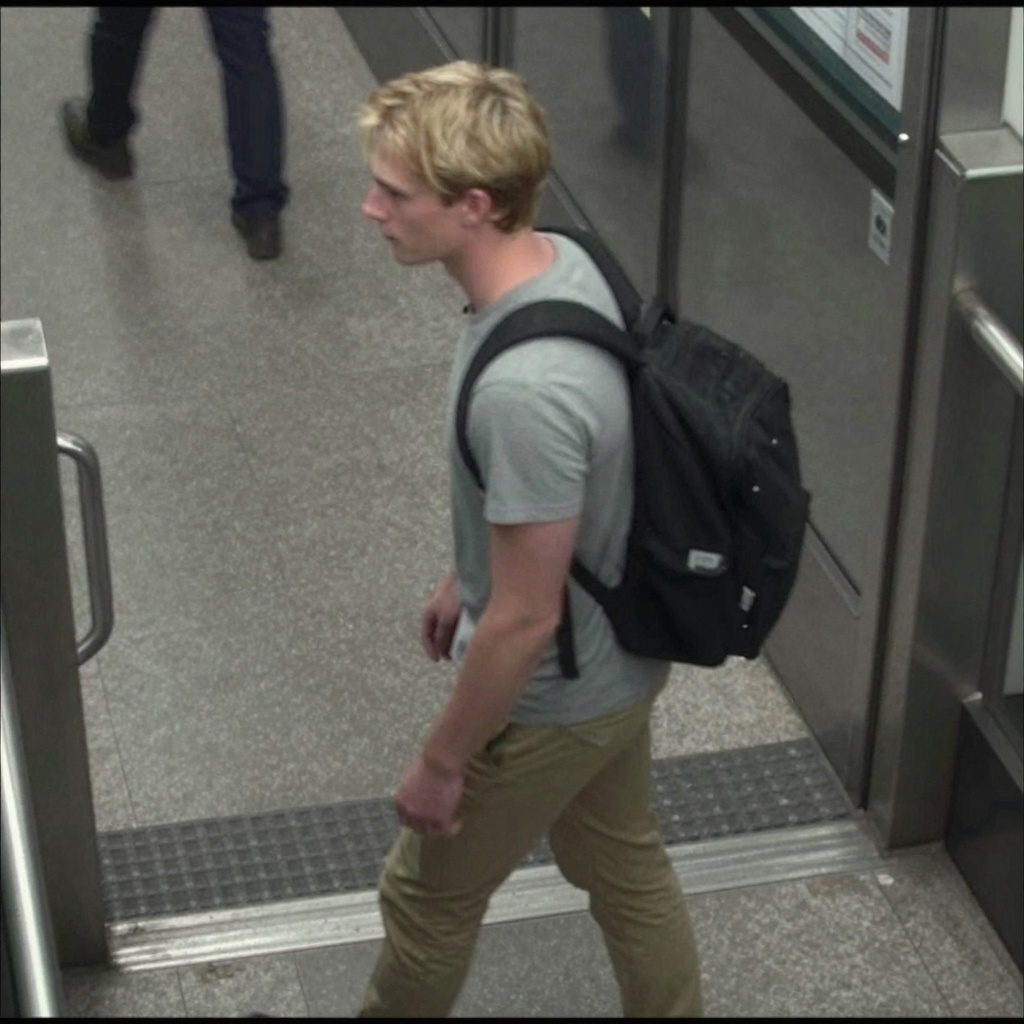Normal activity: (355, 59, 731, 1002), (60, 8, 292, 261)
